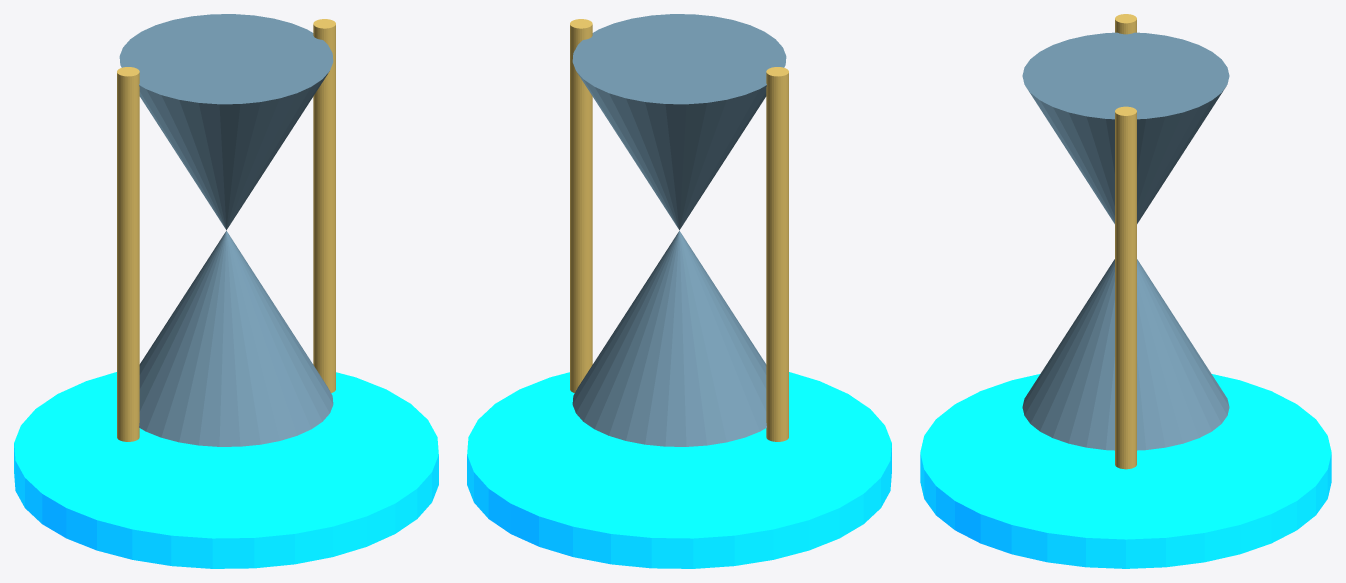
File: news_hourglass.glb
3 views of the same model, side by side, from view 1: azimuth 30°, elevation 25°; view 2: azimuth 150°, elevation 25°; view 3: azimuth 270°, elevation 25° (orthographic). The views are drawn at different scales.
Parts seen in each view (by area): view 1: 09_13_Popular_News_Hourglass_ROOT_base, 09_13_Popular_News_Hourglass_part_02, 09_13_Popular_News_Hourglass_part_01, 09_13_Popular_News_Hourglass_part_03, 09_13_Popular_News_Hourglass_part_04; view 2: 09_13_Popular_News_Hourglass_ROOT_base, 09_13_Popular_News_Hourglass_part_02, 09_13_Popular_News_Hourglass_part_01, 09_13_Popular_News_Hourglass_part_03, 09_13_Popular_News_Hourglass_part_04; view 3: 09_13_Popular_News_Hourglass_ROOT_base, 09_13_Popular_News_Hourglass_part_02, 09_13_Popular_News_Hourglass_part_01, 09_13_Popular_News_Hourglass_part_04.
Boxes of the visible parts, <box> form: 09_13_Popular_News_Hourglass_ROOT_base: <box>14,372,438,568</box>; 09_13_Popular_News_Hourglass_part_02: <box>119,14,333,230</box>; 09_13_Popular_News_Hourglass_part_01: <box>139,231,333,446</box>; 09_13_Popular_News_Hourglass_part_03: <box>117,67,139,441</box>; 09_13_Popular_News_Hourglass_part_04: <box>313,19,335,392</box>; 09_13_Popular_News_Hourglass_ROOT_base: <box>467,372,891,568</box>; 09_13_Popular_News_Hourglass_part_02: <box>572,14,786,230</box>; 09_13_Popular_News_Hourglass_part_01: <box>572,231,766,446</box>; 09_13_Popular_News_Hourglass_part_03: <box>766,67,788,441</box>; 09_13_Popular_News_Hourglass_part_04: <box>570,19,592,392</box>; 09_13_Popular_News_Hourglass_ROOT_base: <box>920,374,1331,568</box>; 09_13_Popular_News_Hourglass_part_02: <box>1022,32,1229,223</box>; 09_13_Popular_News_Hourglass_part_01: <box>1022,259,1229,450</box>; 09_13_Popular_News_Hourglass_part_04: <box>1115,106,1136,469</box>.
Size of the model in its own units: 0.76 by 0.85 by 0.76.
